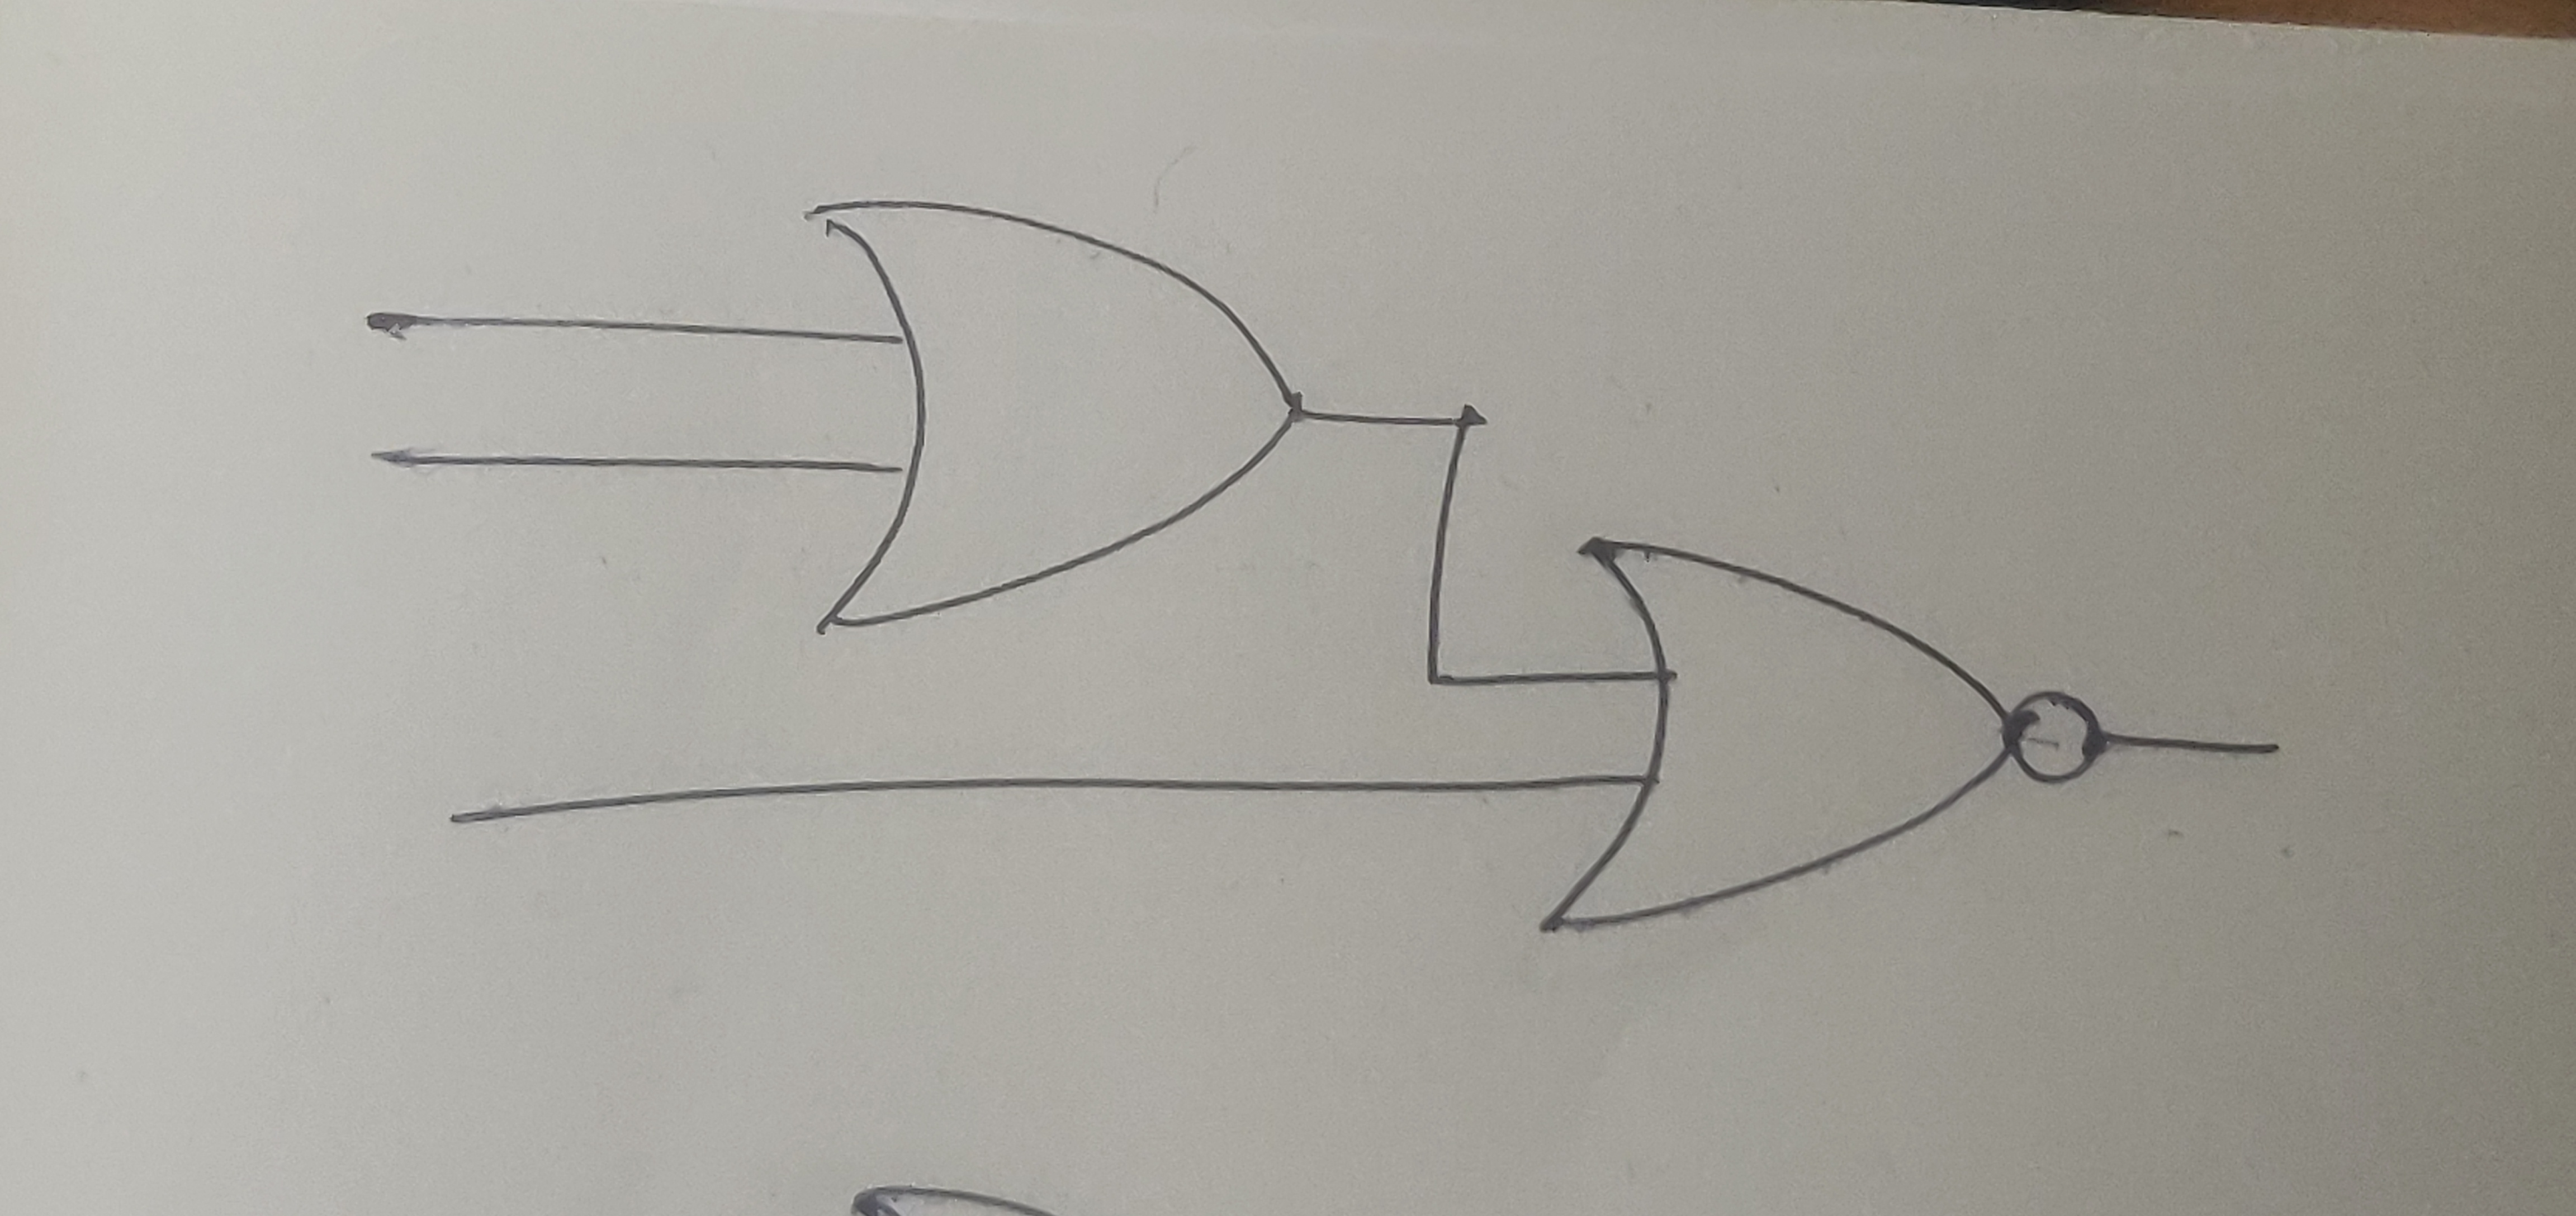not: (2004, 684, 2106, 795)
or: (802, 197, 1304, 634), (1541, 529, 2014, 940)
